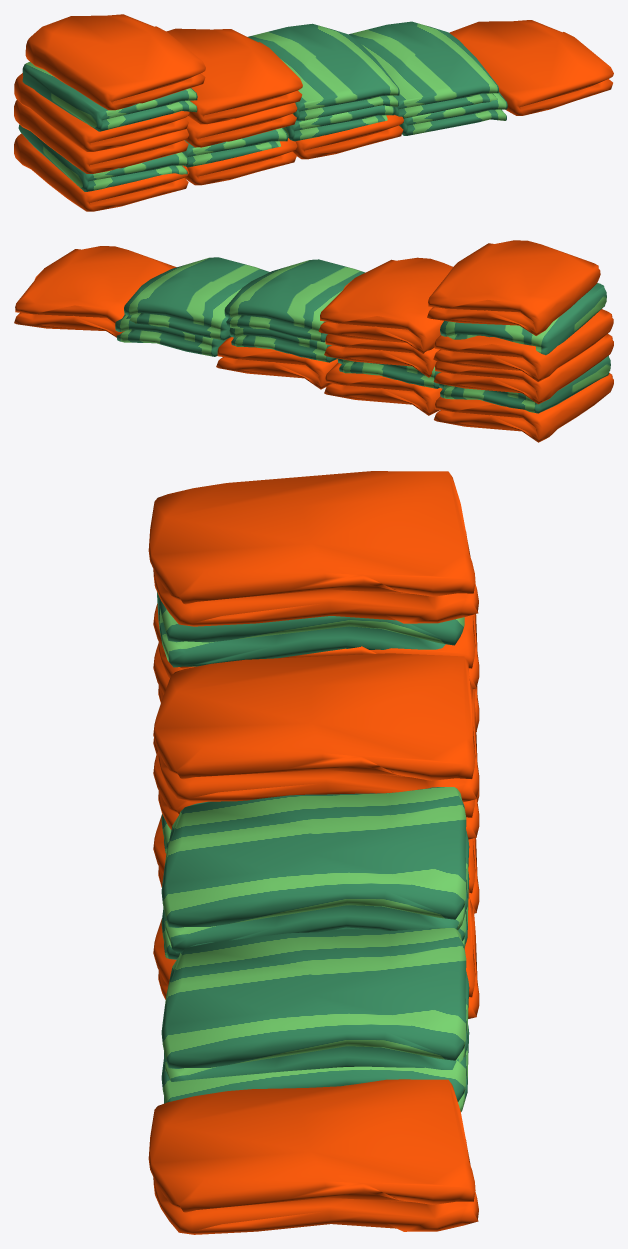
Rendered from BathroomTowelMontain.FBX.
The picture shows the model from 3 angles, top to bottom: view 1: azimuth 30°, elevation 25°; view 2: azimuth 150°, elevation 25°; view 3: azimuth 270°, elevation 25°; orthographic projection. The views are drawn at different scales.
Visible parts, largest first — view 1: BathroomTowelMontain; view 2: BathroomTowelMontain; view 3: BathroomTowelMontain.
Part boxes in pixels (left/top/right/bottom): BathroomTowelMontain: left=14, top=14, right=613, bottom=211; BathroomTowelMontain: left=14, top=240, right=613, bottom=442; BathroomTowelMontain: left=148, top=471, right=479, bottom=1234.
Bounding box in the file's own units: 9.24 × 2.38 × 2.48.
